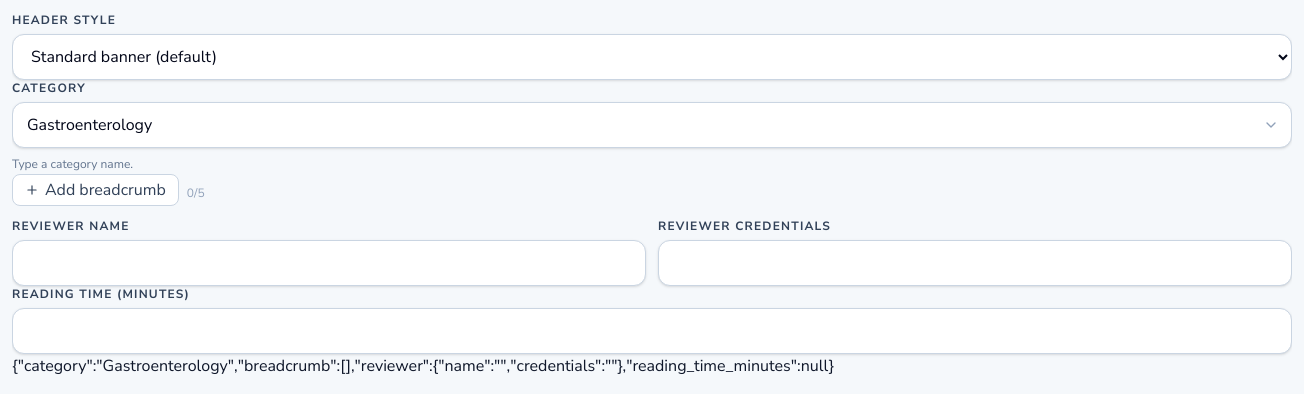
Hero Header style option in the blog editor › lets the author pick the article header and stores it on the hero instance
This screenshot has width=1304, height=394.
Select "Article header (image, date and title)" in the dropdown labelled "Header style" at (652, 57), box [12,34,1292,80]
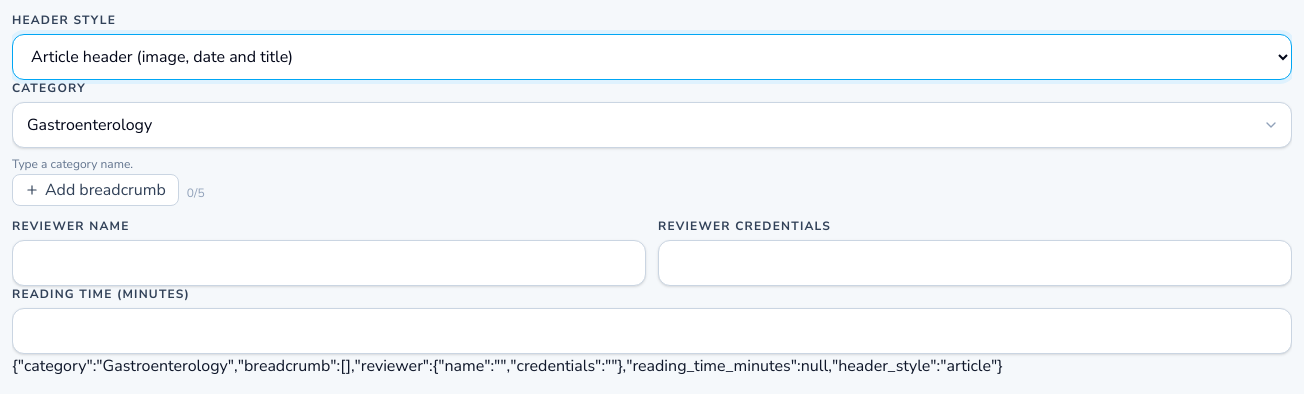
Check: the text "\"header_style\":\"article\"" is shown, box [12,355,1003,377]
Select "Standard banner (default)" in the dropdown labelled "Header style" at (652, 57), box [12,34,1292,80]
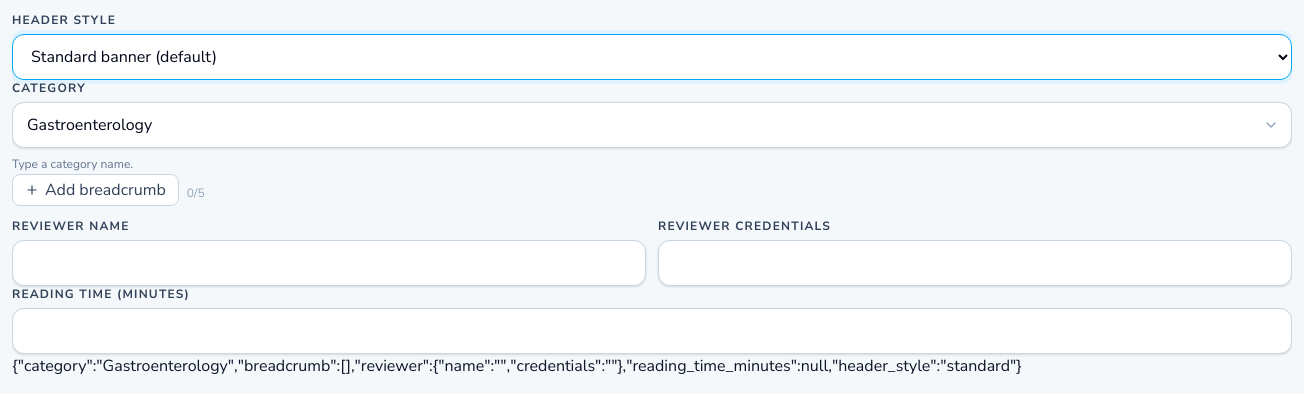
Check: the text "\"header_style\":\"standard\"" is shown, box [12,355,1022,377]
